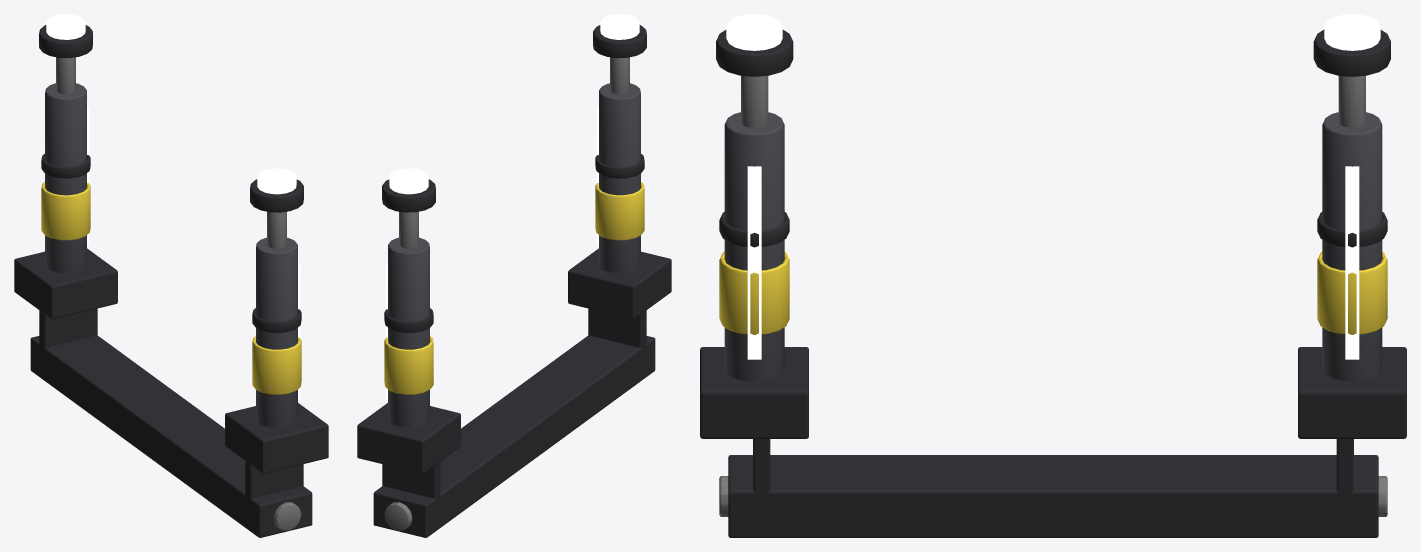
File: Relay_Retract_Pylons_v2.glb
3 renders of one model, left to right at view 1: azimuth 30°, elevation 25°; view 2: azimuth 150°, elevation 25°; view 3: azimuth 270°, elevation 25°, orthographic. The views are drawn at different scales.
Visible parts, largest first — view 1: Relay_Retract_Pylons_v2; view 2: Relay_Retract_Pylons_v2; view 3: Relay_Retract_Pylons_v2.
Boxes of the visible parts, x1,y1,x2,y2 form: Relay_Retract_Pylons_v2: (14,14,328,537); Relay_Retract_Pylons_v2: (357,14,671,537); Relay_Retract_Pylons_v2: (700,14,1406,537).
Bounding box in the file's own units: 0.62 × 3.11 × 4.02.
